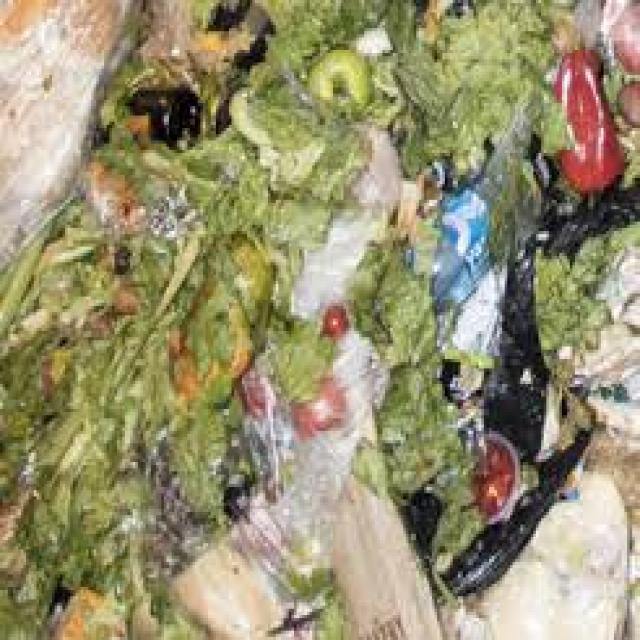food_waste: (176, 79, 613, 416)
